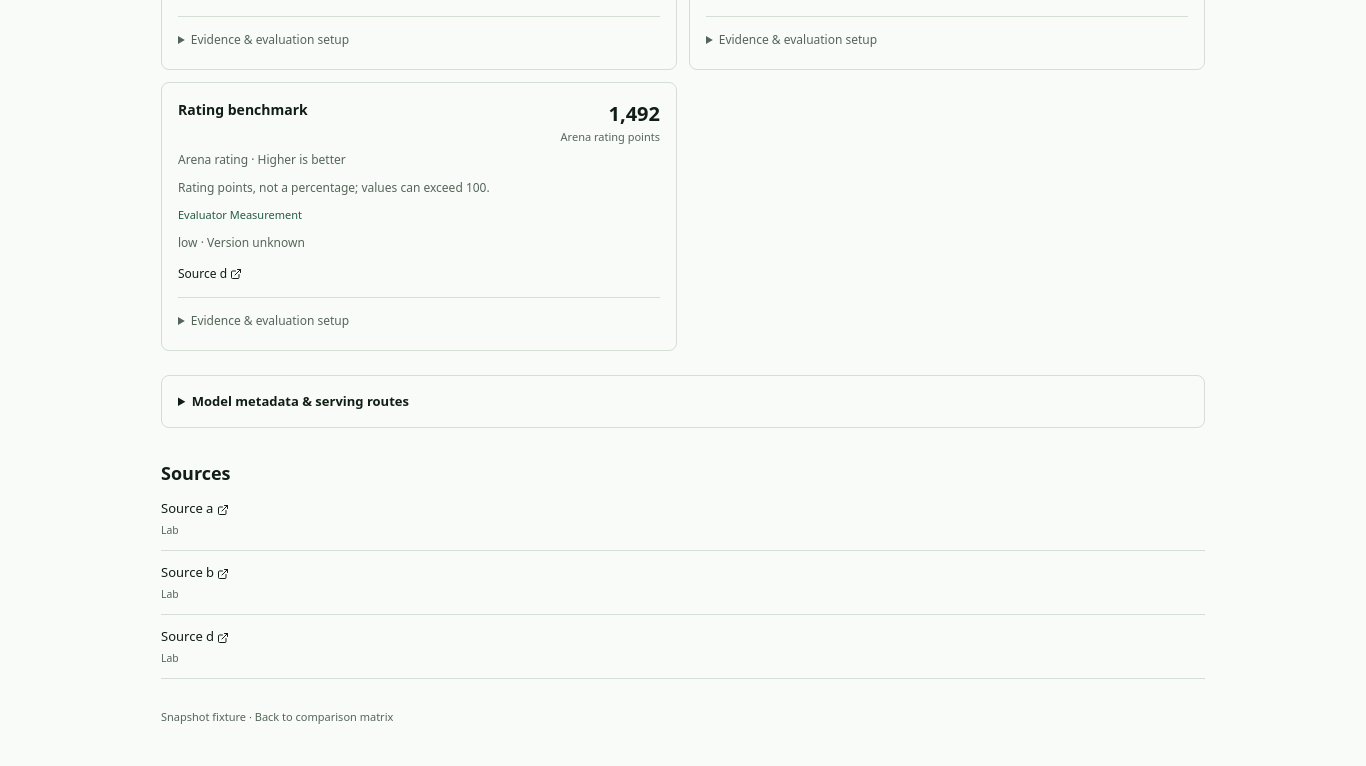
Scenario: summarizes routes and shows converted latency, stale age, and discounted typed prices in details
(page scrolled)
What coordinates should you click on to do the following:
click the heading "Model metadata & serving routes"
I would click on:
 (300, 401)
Its box is [192,392,409,410].
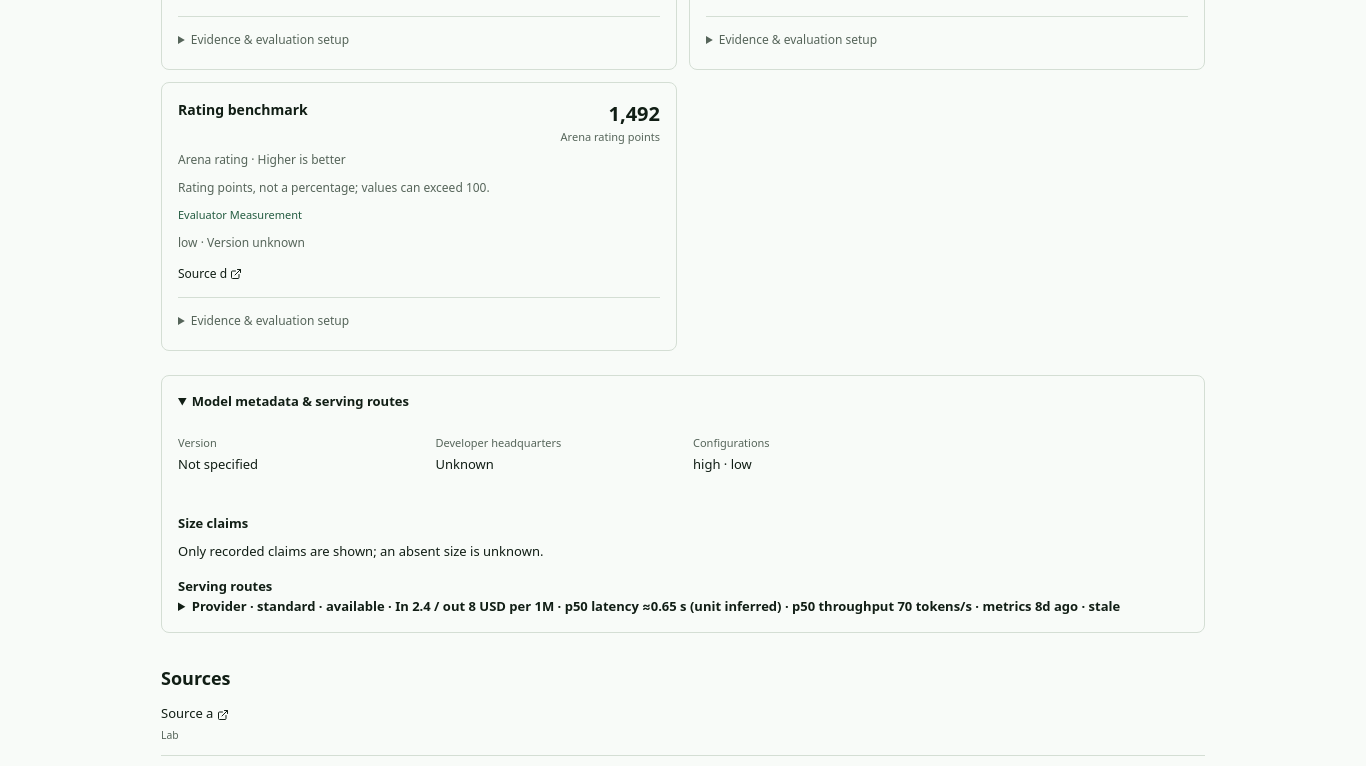
Check: the heading "p50 latency ≈0.65 s (unit inferred)" is shown, box [178,597,1188,616]
